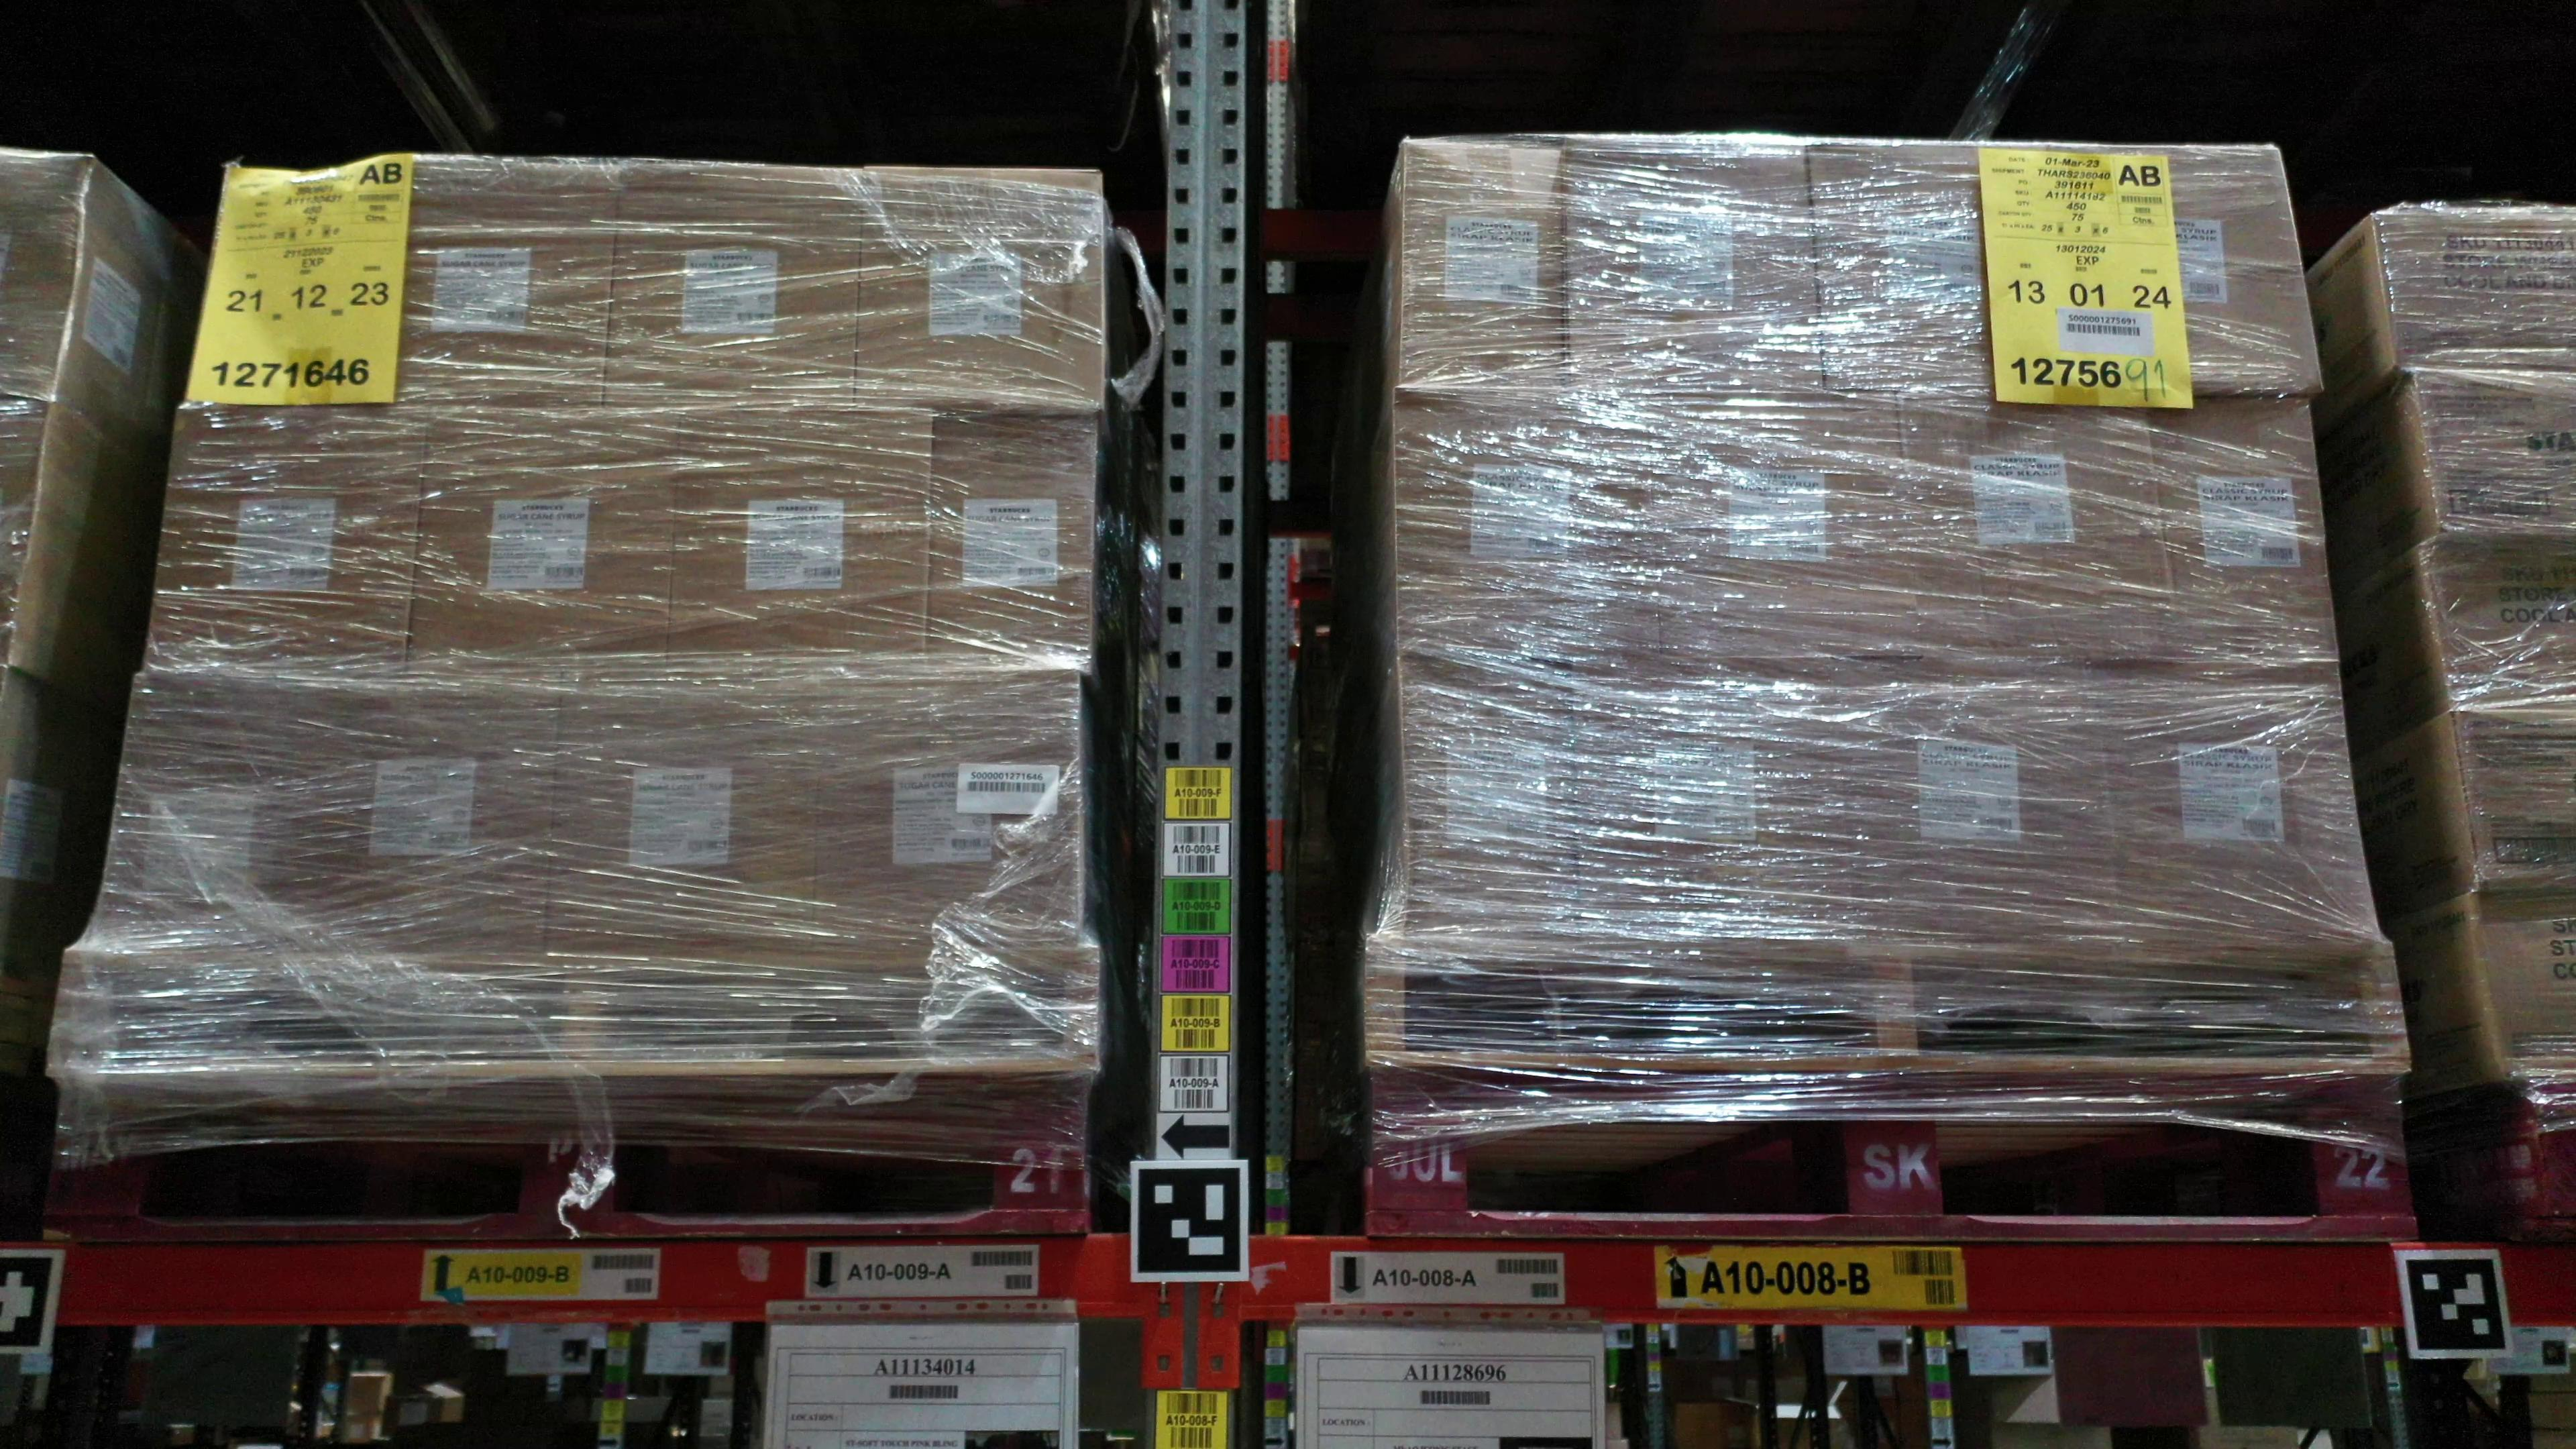-: (1573, 658, 1861, 941), (1842, 658, 2128, 941), (269, 681, 559, 961), (403, 407, 685, 688), (2093, 663, 2381, 938), (142, 407, 430, 679), (548, 685, 828, 959), (1647, 391, 1923, 663), (333, 156, 625, 409), (669, 409, 934, 686), (1396, 393, 1663, 667), (816, 679, 1079, 952), (1904, 398, 2173, 663), (596, 156, 870, 412), (2056, 143, 2323, 405), (1812, 145, 2074, 409), (1568, 136, 1824, 403), (853, 163, 1108, 416), (94, 676, 303, 950), (1396, 658, 1582, 938), (2155, 402, 2341, 667), (924, 409, 1100, 678), (1396, 138, 1575, 393), (188, 161, 356, 403), (2367, 211, 2576, 372), (2413, 370, 2576, 531), (2422, 534, 2576, 704), (0, 150, 96, 400), (2449, 704, 2576, 885), (2473, 885, 2576, 1079), (2, 398, 51, 669)
